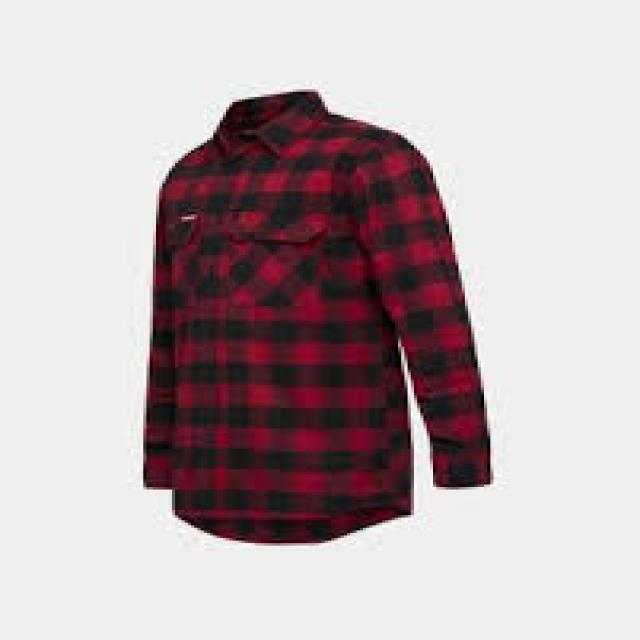plaid: (132, 89, 490, 548)
